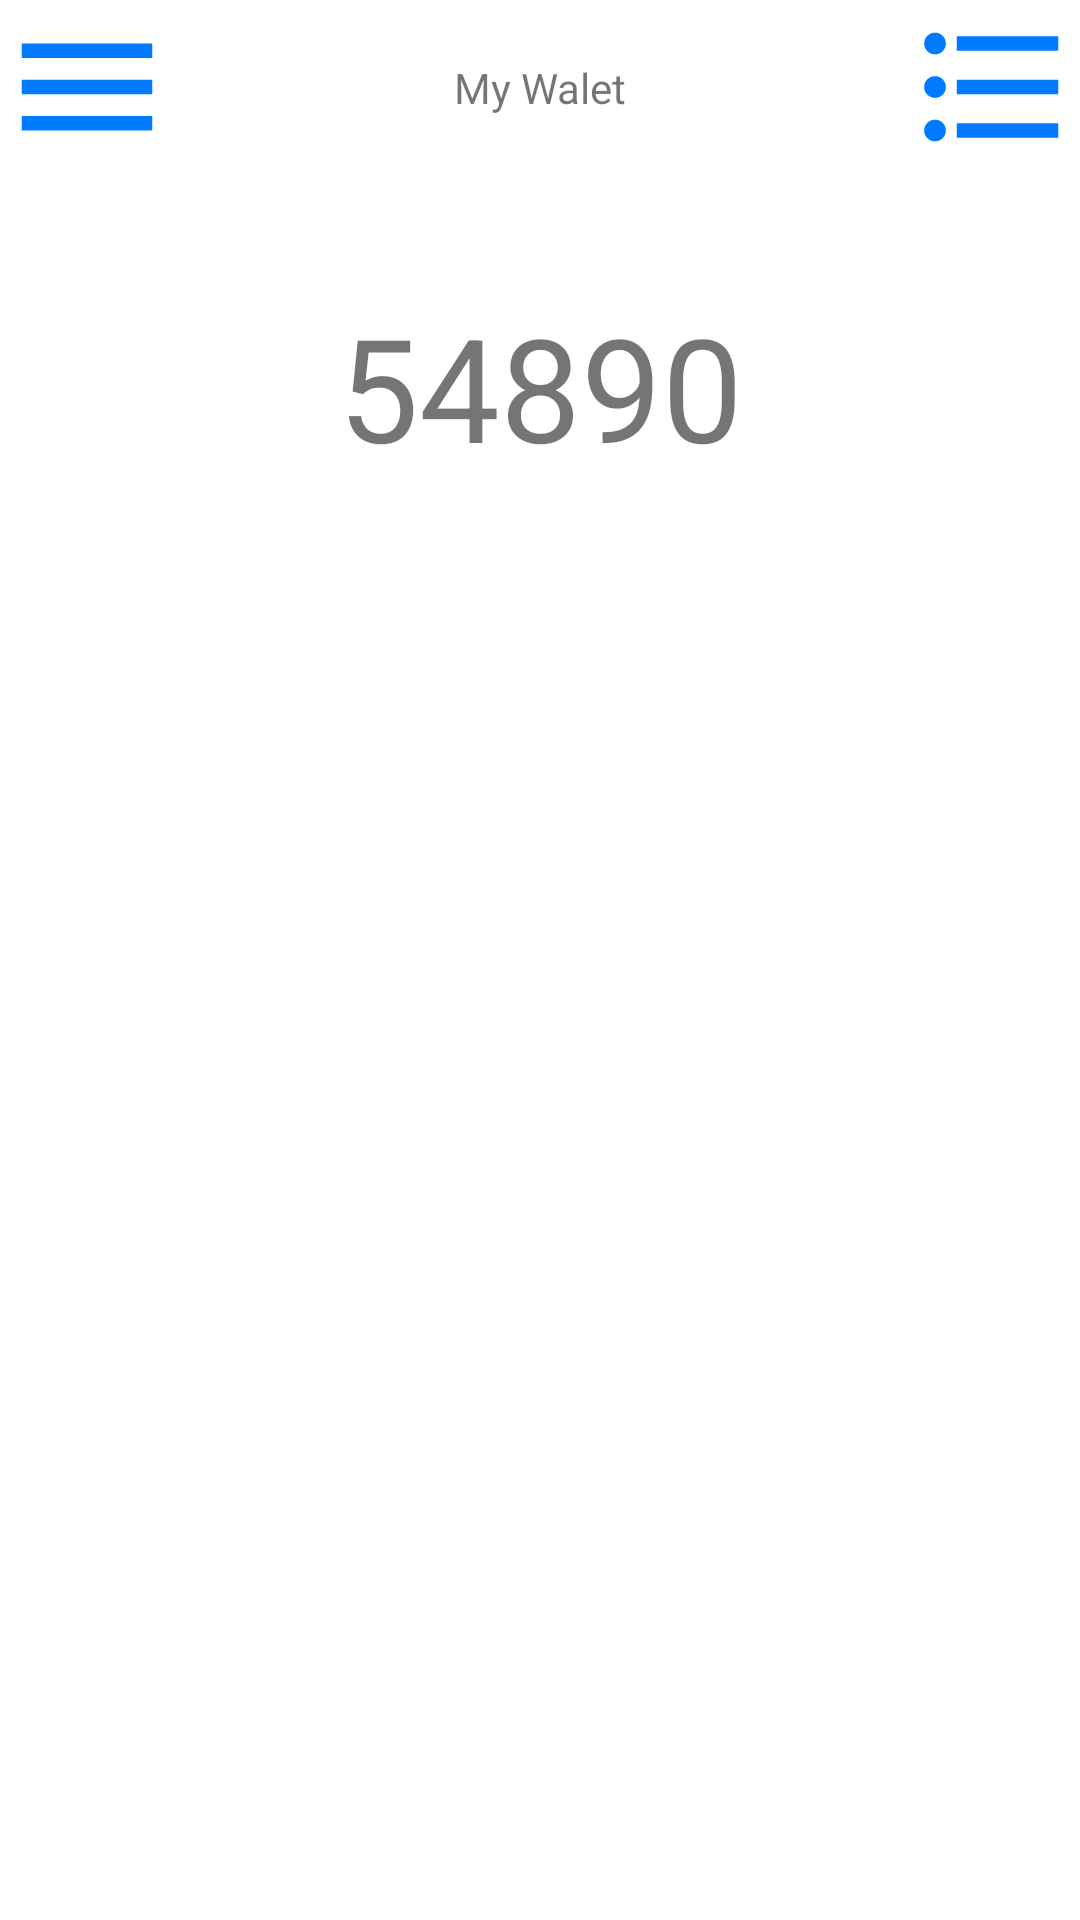

Icons on this 1080x1920 Android screen, each with its box as (x1, y1, x2, y2):
menu: (21, 43, 153, 131)
